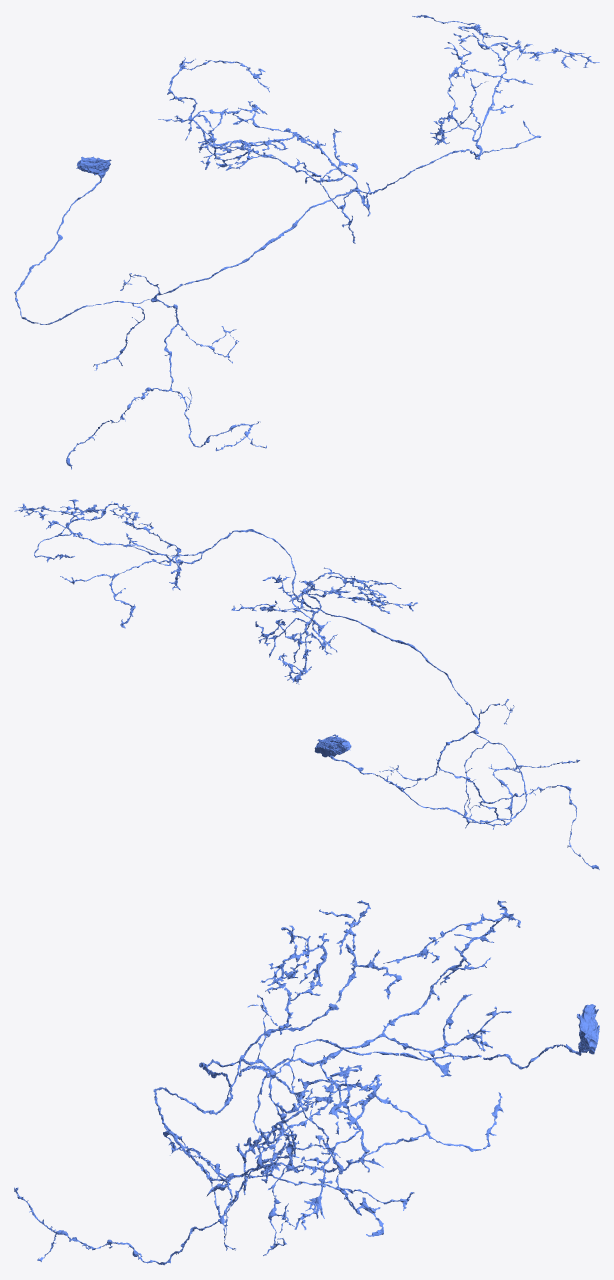
The model's file is VFB_fw013772.glb.
3 views of the same model, one above another, from view 1: azimuth 30°, elevation 25°; view 2: azimuth 150°, elevation 25°; view 3: azimuth 270°, elevation 25° (orthographic). The views are drawn at different scales.
Visible parts, largest first — view 1: VFB_fw013772; view 2: VFB_fw013772; view 3: VFB_fw013772.
Boxes of the visible parts, <box> form: VFB_fw013772: <box>14,14,599,469</box>; VFB_fw013772: <box>14,499,599,869</box>; VFB_fw013772: <box>14,900,599,1265</box>.
Bounding box in the file's own units: 0.0885 × 0.0449 × 0.0517.
